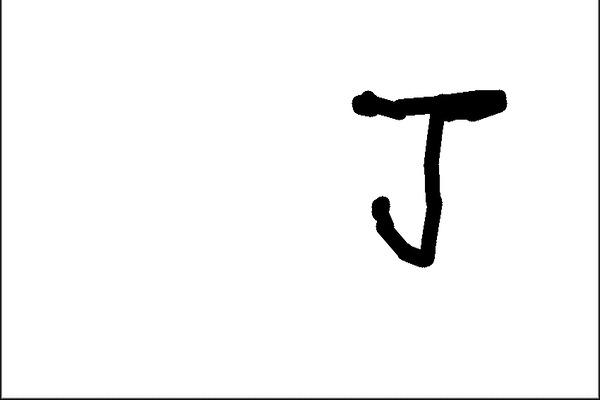J: (342, 78, 514, 270)
